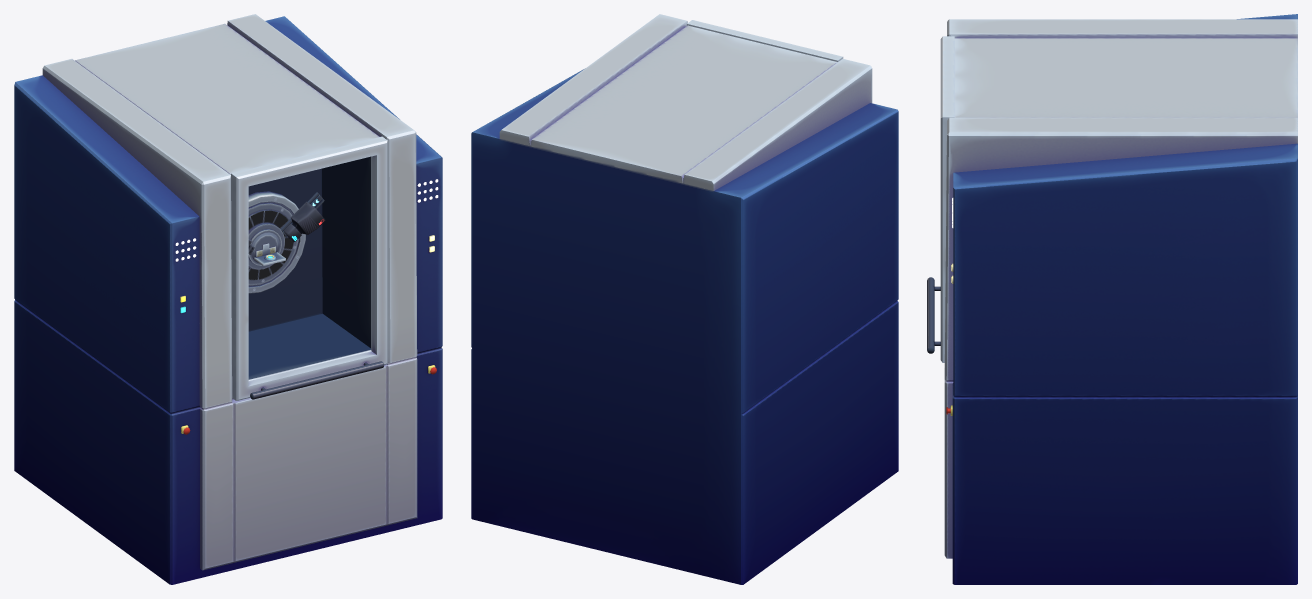
Rendered from DRX.fbx.
The picture shows the model from 3 angles, left to right: view 1: azimuth 30°, elevation 25°; view 2: azimuth 150°, elevation 25°; view 3: azimuth 270°, elevation 25°; orthographic projection. The views are drawn at different scales.
Parts seen in each view (by area): view 1: base, PUERTA, REPISA, MICROESCOPIO.001; view 2: base, PUERTA; view 3: base, PUERTA.
Part boxes in pixels (x1,y1,x2,y2): base: (14,14,442,584); PUERTA: (231,136,387,400); REPISA: (248,191,305,293); MICROESCOPIO.001: (284,201,325,241); base: (471,14,898,584); PUERTA: (687,20,843,61); base: (944,14,1297,584); PUERTA: (927,36,954,362).
Bounding box in the file's own units: 843 × 1174 × 905.
Materials: 1 (1 with a texture image).
